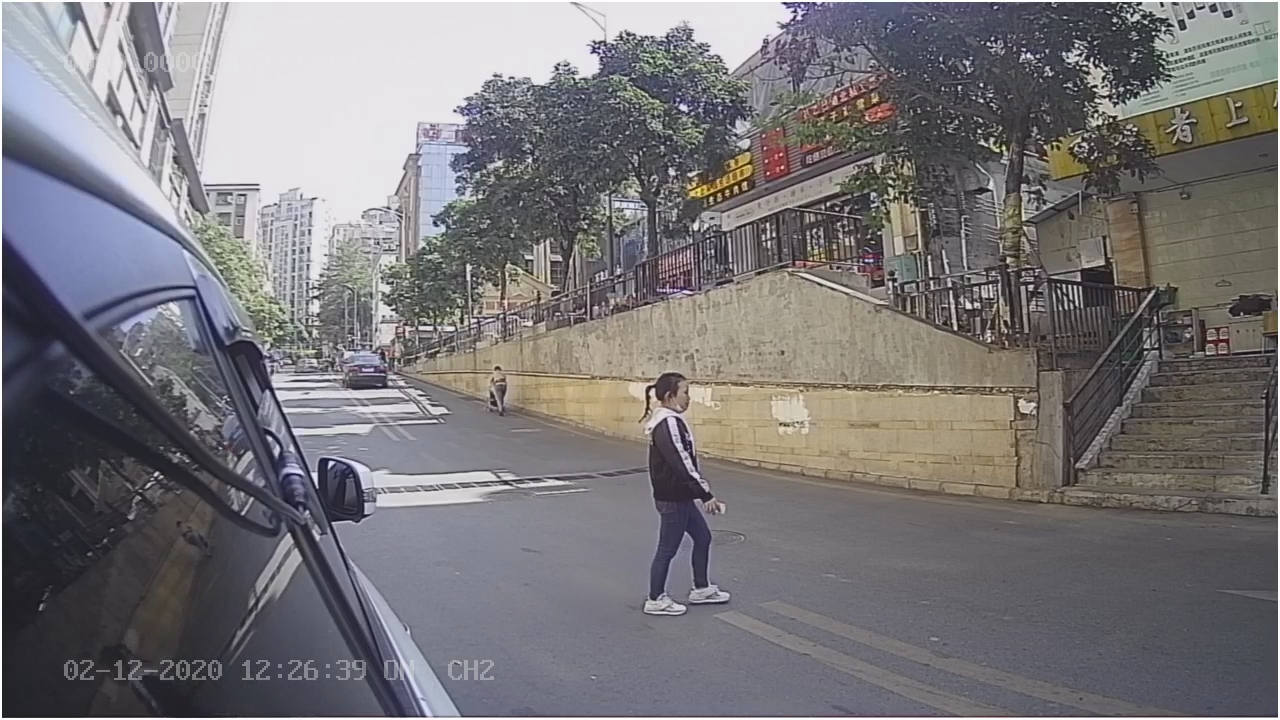person: (626, 364, 734, 620)
